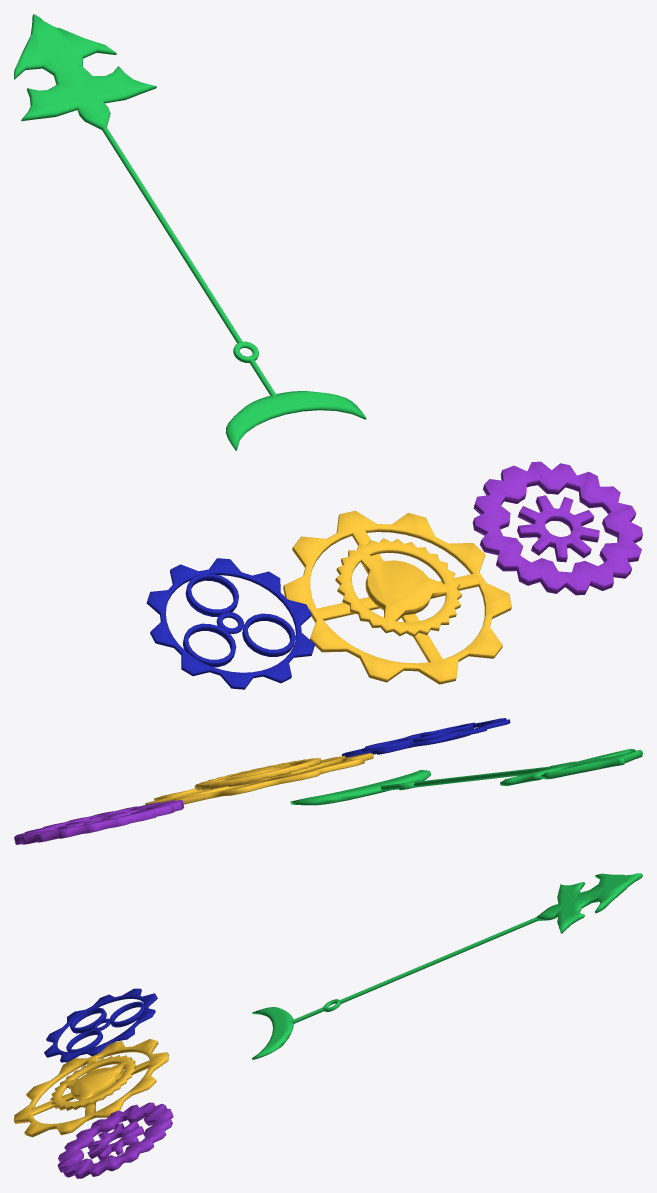
Rendered from engrenage1_2_3_aiguille (1).FBX.
The picture shows the model from 3 angles, top to bottom: view 1: azimuth 30°, elevation 25°; view 2: azimuth 210°, elevation 25°; view 3: azimuth 270°, elevation 25°; orthographic projection. The views are drawn at different scales.
Visible parts, largest first — view 1: g_engrenage3_engrenage3; view 2: g_engrenage3_engrenage3; view 3: g_engrenage3_engrenage3.
Part boxes in pixels (x1=…): g_engrenage3_engrenage3: x1=14, y1=14, x2=642, y2=689; g_engrenage3_engrenage3: x1=14, y1=718, x2=642, y2=844; g_engrenage3_engrenage3: x1=14, y1=873, x2=642, y2=1178.
Bounding box in the file's own units: 50.17 × 34.44 × 77.27.
